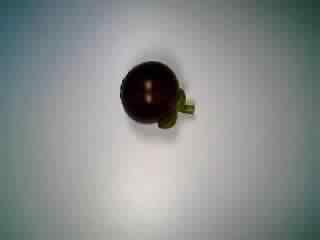mangosteen: (114, 53, 196, 138)
